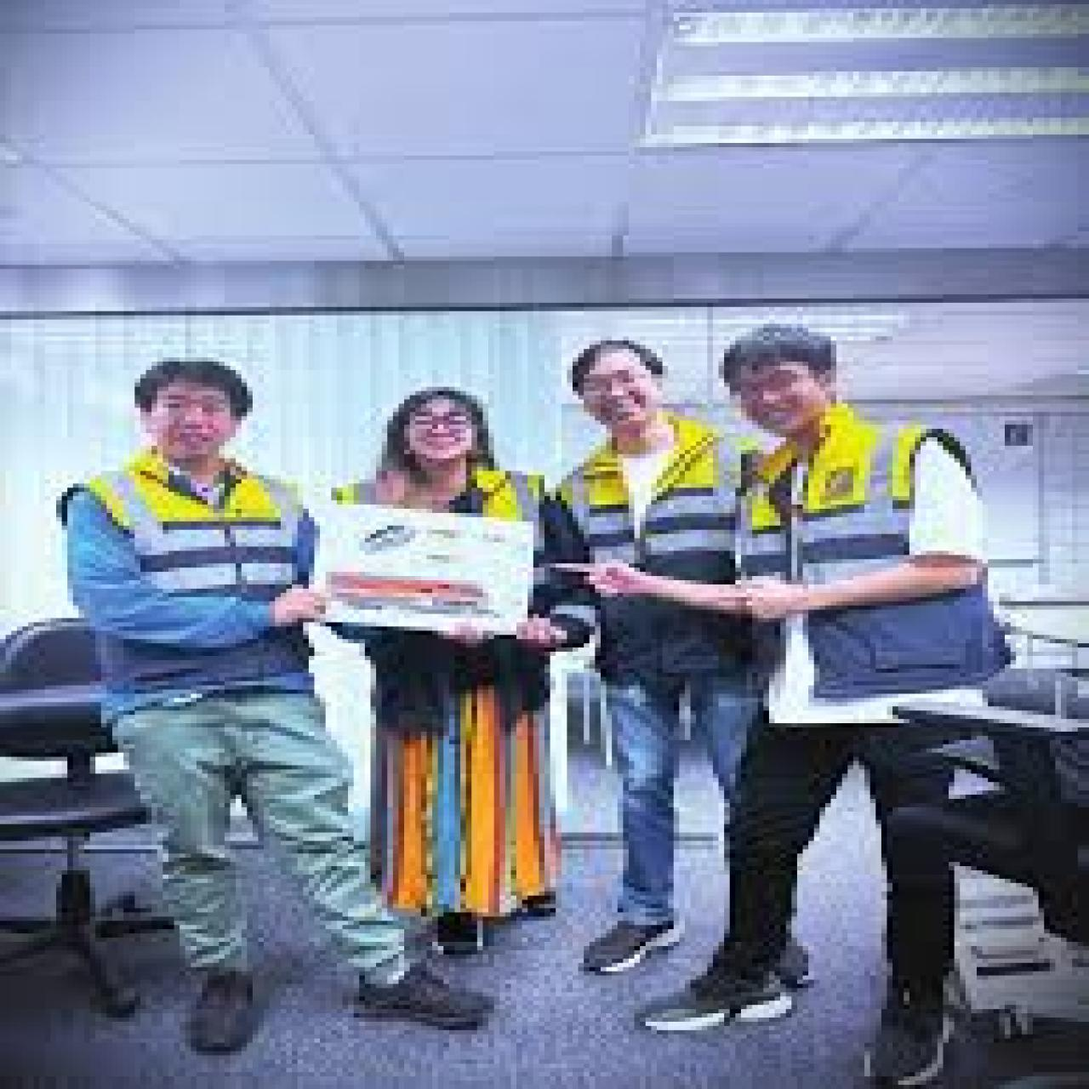Person: (35, 349, 487, 1059), (616, 310, 1007, 1065), (514, 331, 773, 982), (329, 384, 576, 965)
Safety_Vest: (45, 465, 318, 729), (751, 422, 1005, 705), (545, 426, 753, 664)
